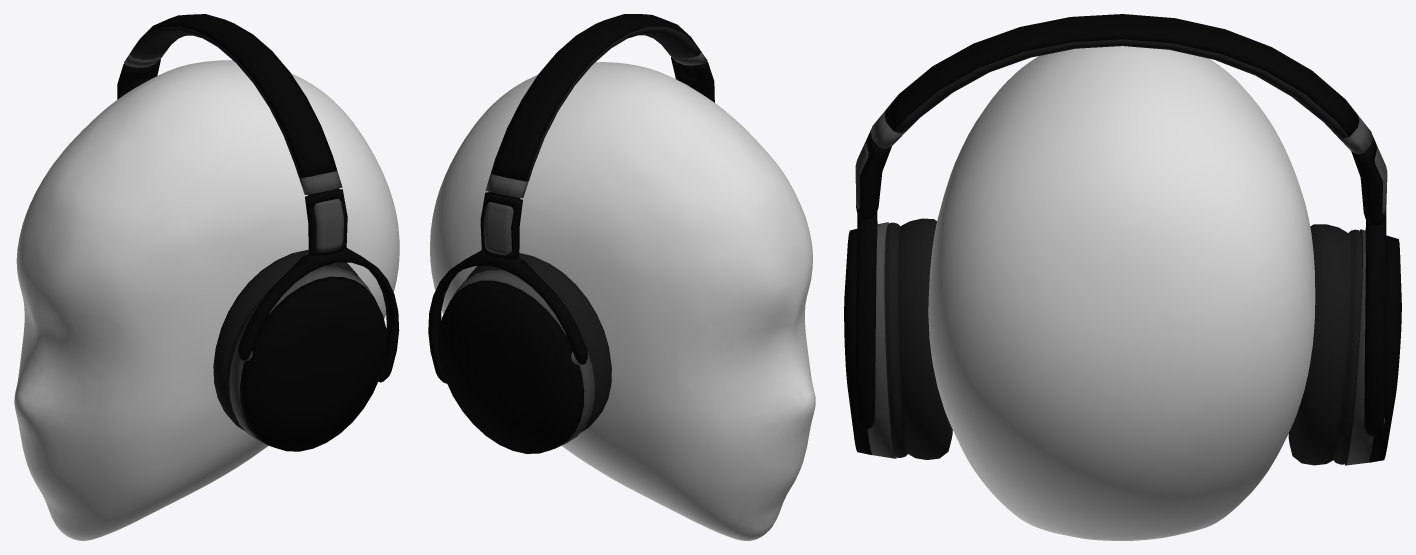
The model's file is Headset copy.glb.
3 renders of one model, left to right at view 1: azimuth 30°, elevation 25°; view 2: azimuth 150°, elevation 25°; view 3: azimuth 270°, elevation 25°, orthographic. The views are drawn at different scales.
Parts seen in each view (by area): view 1: Head, HeadSet; view 2: Head, HeadSet; view 3: Head, HeadSet.
Part boxes in pixels (bbox=[...]): Head: bbox=[14, 60, 399, 540]; HeadSet: bbox=[117, 14, 399, 451]; Head: bbox=[430, 62, 815, 540]; HeadSet: bbox=[428, 14, 714, 453]; Head: bbox=[928, 46, 1315, 540]; HeadSet: bbox=[844, 14, 1401, 465].
Size of the model in its own units: 4.59 by 5.77 by 4.77.
2 materials, 1 textured.
